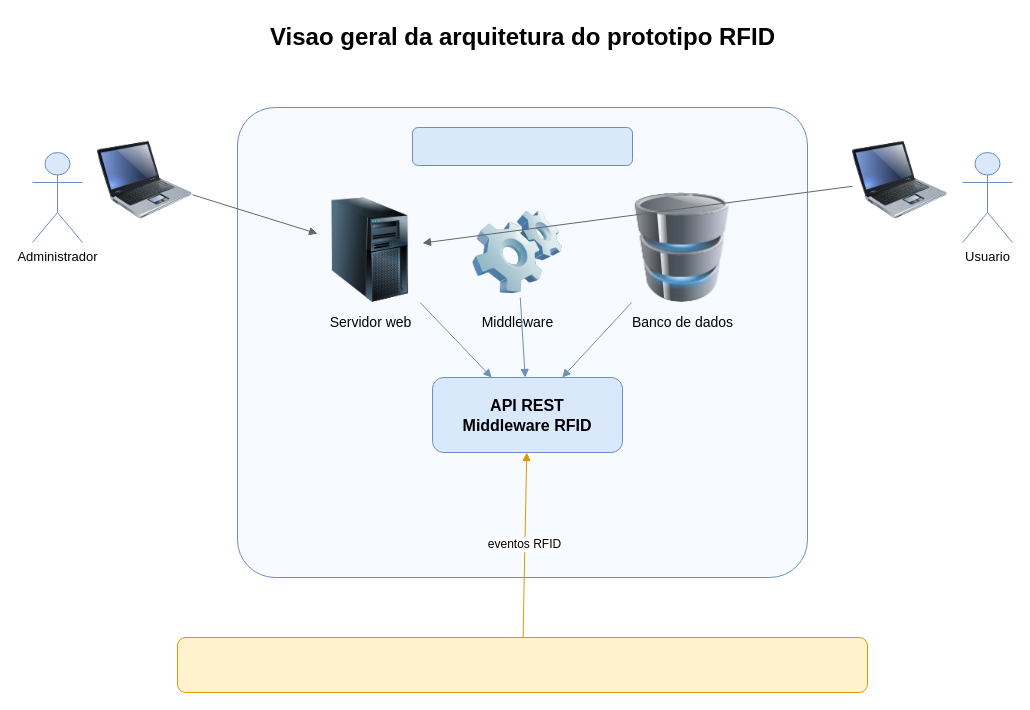
This 1030x710 diagram has some shape labels left out. Each missing label, with the centre of its shape:
Fontes de leitura: leitor USB com comunicador ou dispositivos em rede: pixel 522 664
Nucleo do sistema: pixel 522 146
